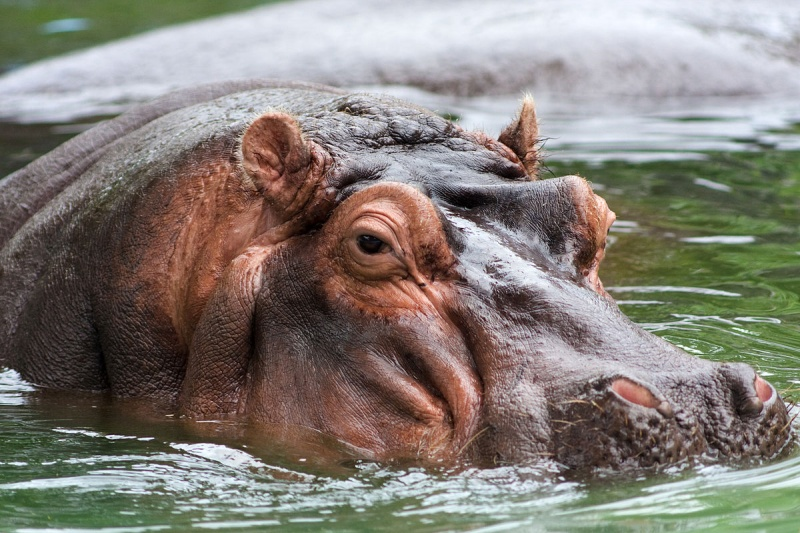hipopotamo: (2, 45, 800, 525)
